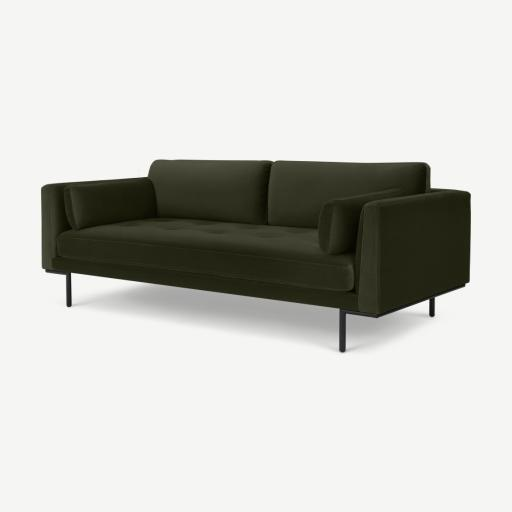back_cushion: (148, 160, 429, 227)
base: (53, 258, 366, 315)
left_arm: (356, 190, 470, 314)
legs: (339, 285, 464, 352), (45, 270, 72, 307)
right_arm: (42, 180, 128, 270)
seat_cushion: (58, 218, 355, 291)
two-seater: (0, 0, 511, 512)
